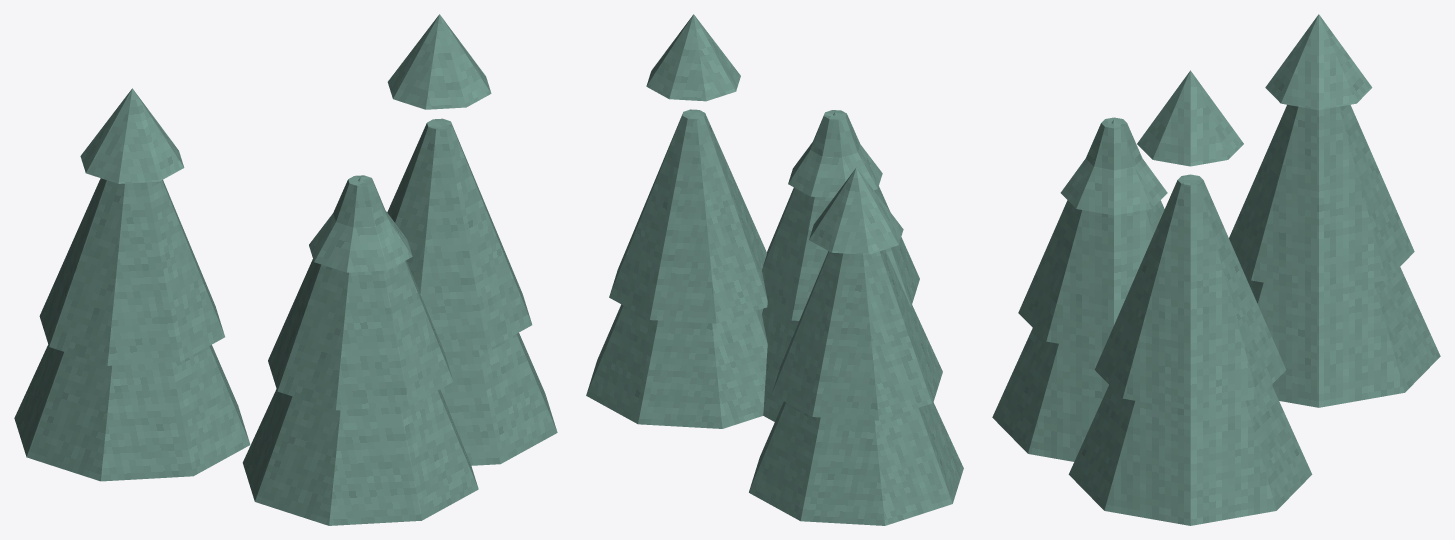
The model's file is level_blockout_camp_pine_cluster.glb.
3 renders of one model, left to right at view 1: azimuth 30°, elevation 25°; view 2: azimuth 150°, elevation 25°; view 3: azimuth 270°, elevation 25°, orthographic. The views are drawn at different scales.
Parts seen in each view (by area): view 1: level_blockout_camp_pine_cluster; view 2: level_blockout_camp_pine_cluster; view 3: level_blockout_camp_pine_cluster.
Part boxes in pixels (<box>): level_blockout_camp_pine_cluster: <box>14,14,557,525</box>; level_blockout_camp_pine_cluster: <box>586,14,963,525</box>; level_blockout_camp_pine_cluster: <box>992,14,1440,525</box>.
Bounding box in the file's own units: 3.22 × 3.02 × 2.76.
Materials: 2 (2 with a texture image).
